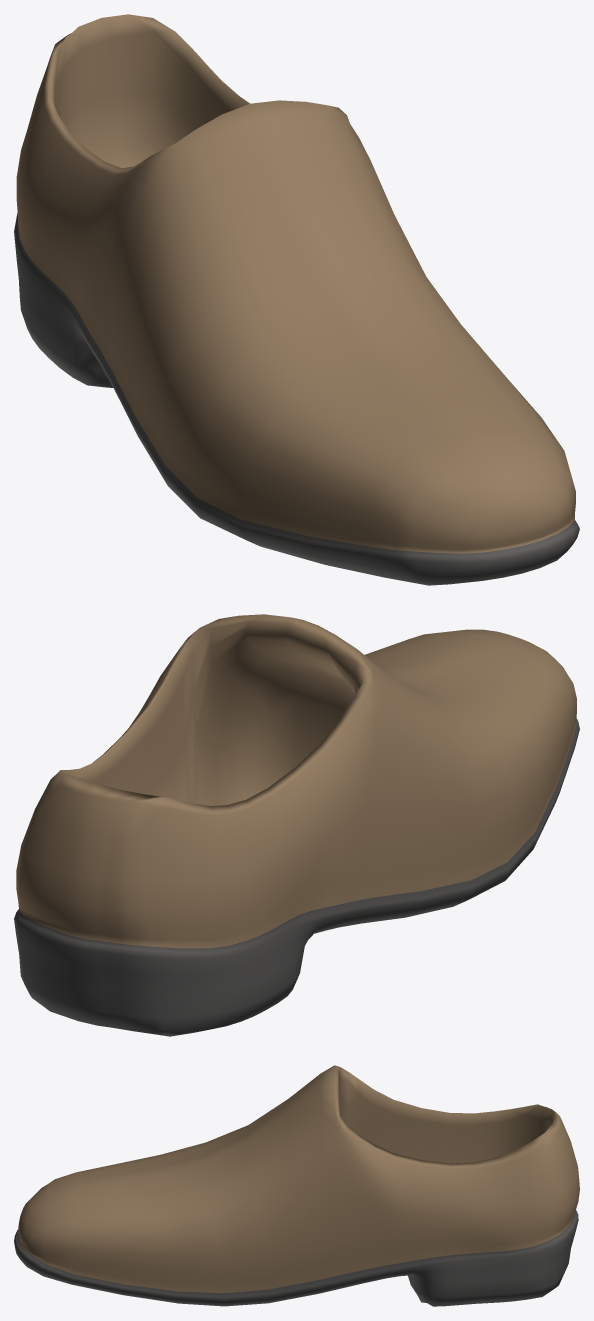
Rendered from shoe02_01.fbx.
The picture shows the model from 3 angles, top to bottom: view 1: azimuth 30°, elevation 25°; view 2: azimuth 150°, elevation 25°; view 3: azimuth 270°, elevation 25°; orthographic projection. The views are drawn at different scales.
Parts seen in each view (by area): view 1: pCube1; view 2: pCube1; view 3: pCube1.
Part boxes in pixels (<box>): pCube1: <box>14,14,579,585</box>; pCube1: <box>14,614,579,1036</box>; pCube1: <box>14,1065,579,1306</box>.
Bounding box in the file's own units: 52.45 × 59.79 × 149.
